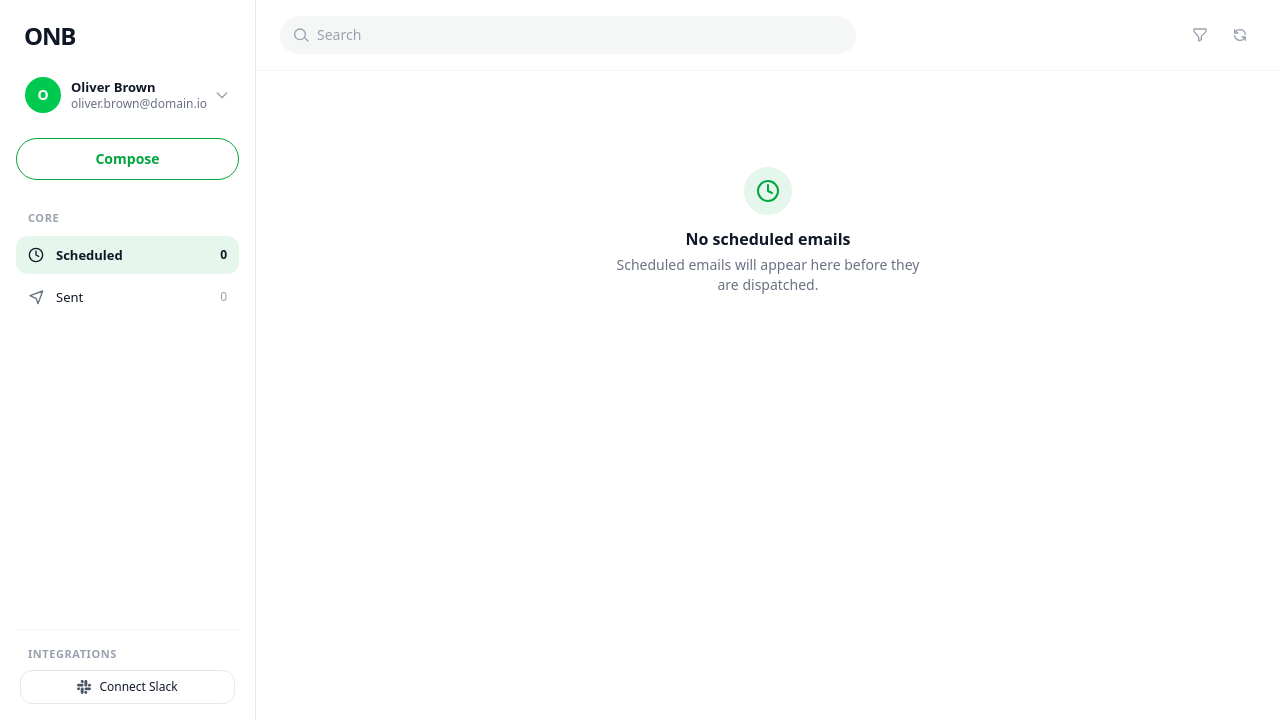
Test: App › performs Elasticsearch search when user types in search bar
Type "Elasticsearch" into the field with placeholder "Search" at (568,35), box [280,16,856,54]
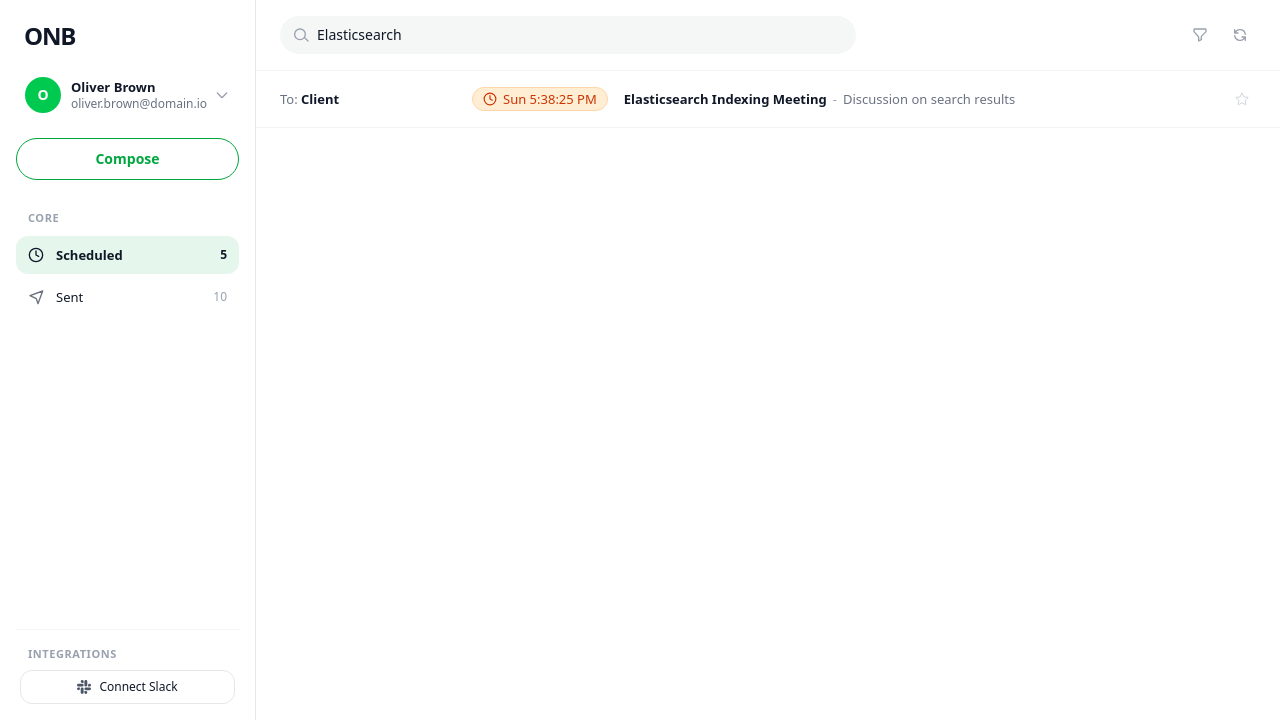
Result: the text "Elasticsearch Indexing Meeting" is shown at [624,90,827,108]
